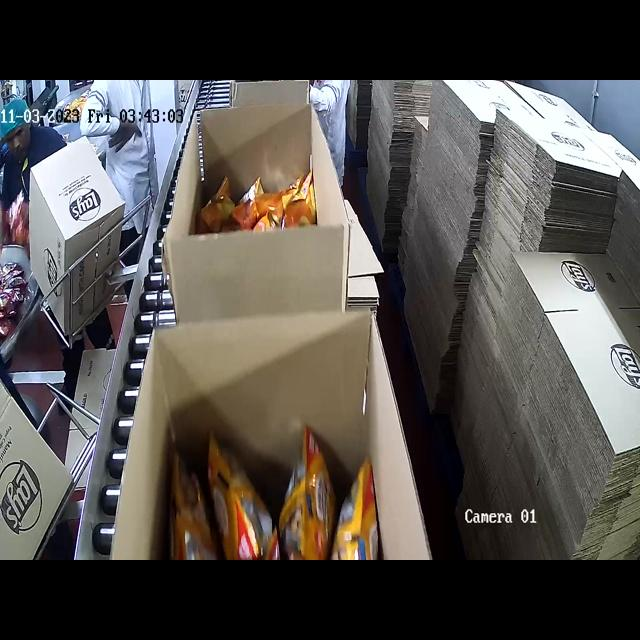cheese: (173, 429, 369, 560), (195, 165, 323, 238)
